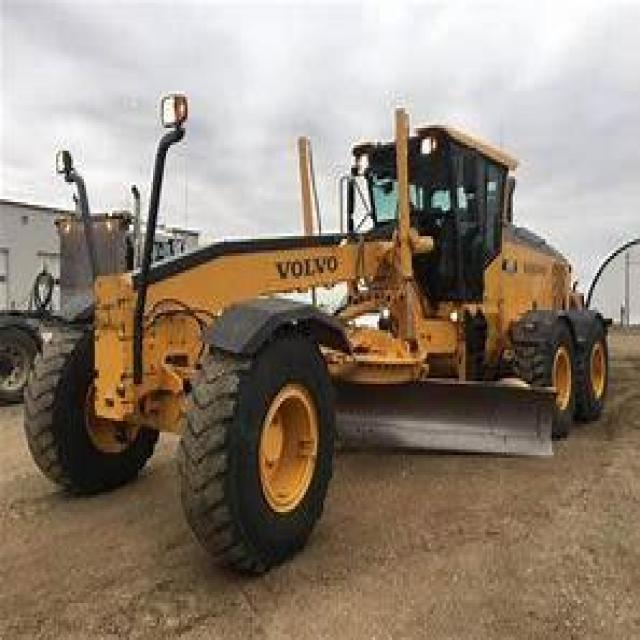buldozerpayloadergrader: (24, 97, 625, 580)
